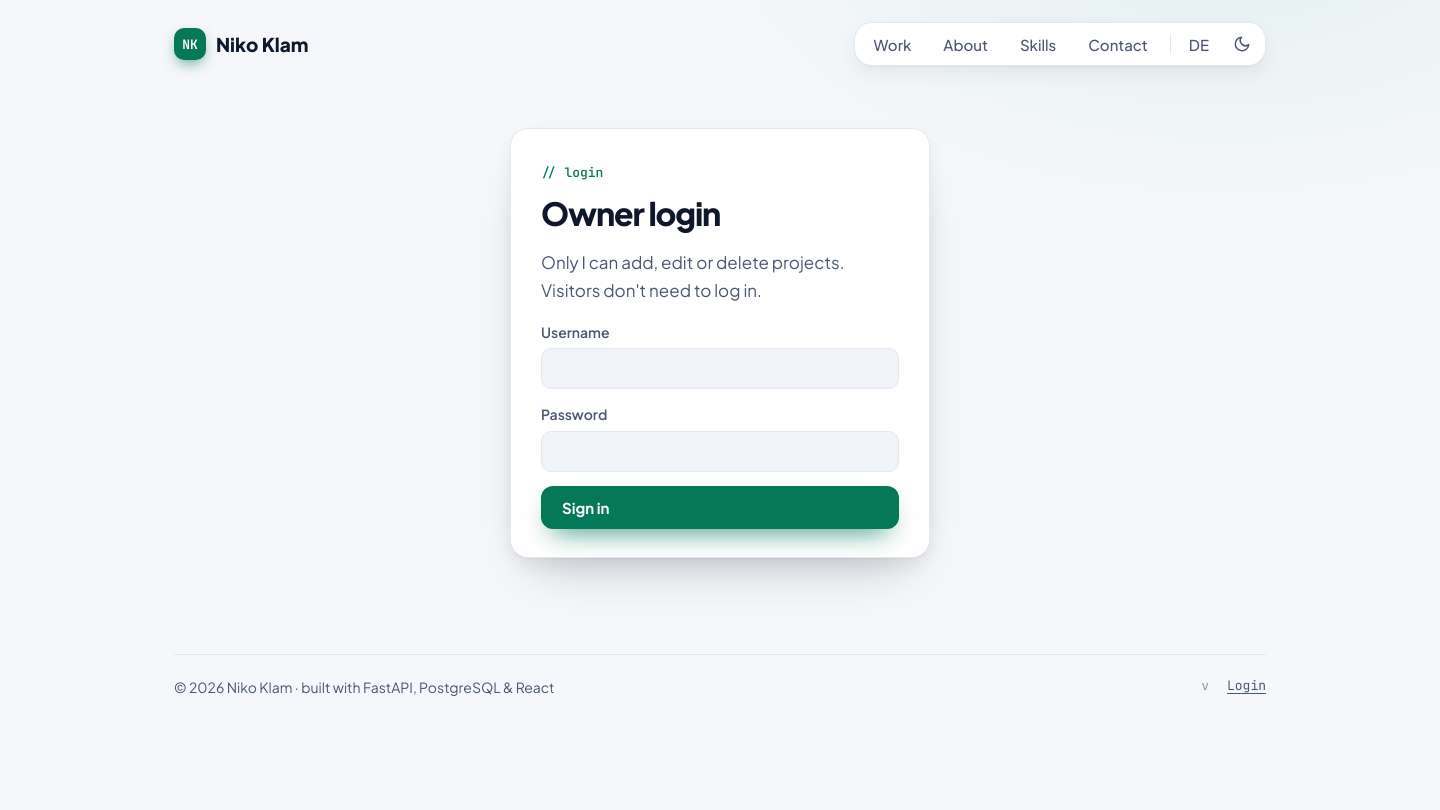
Test: login form › shows how long to wait when the login is rate limited
The image size is (1440, 810).
Type "admin" into the field labelled "Username".
click(720, 369); type("admin")  # box [541, 348, 899, 389]
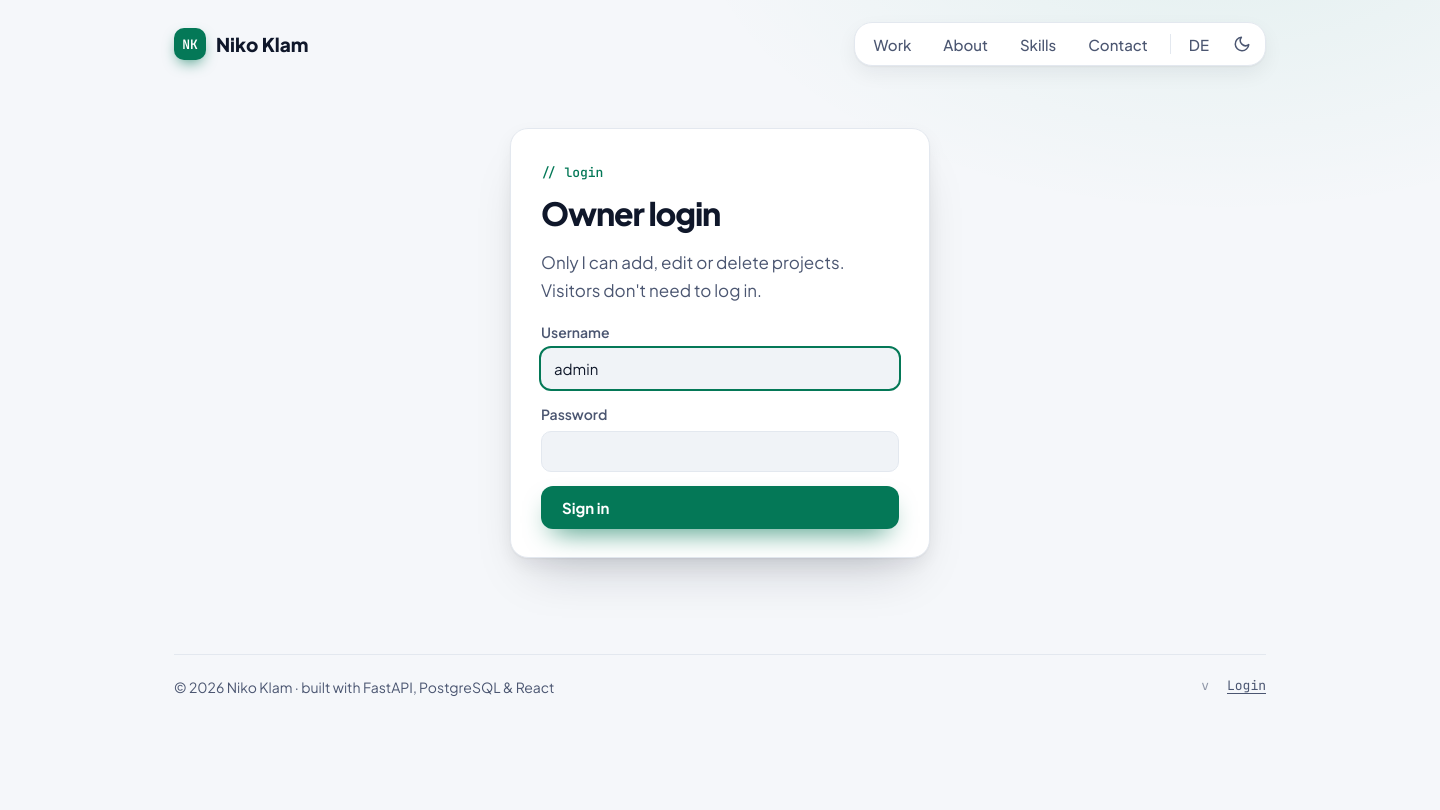
Type "wrong" into the password field labelled "Password".
click(720, 451); type("wrong")  # box [541, 430, 899, 472]
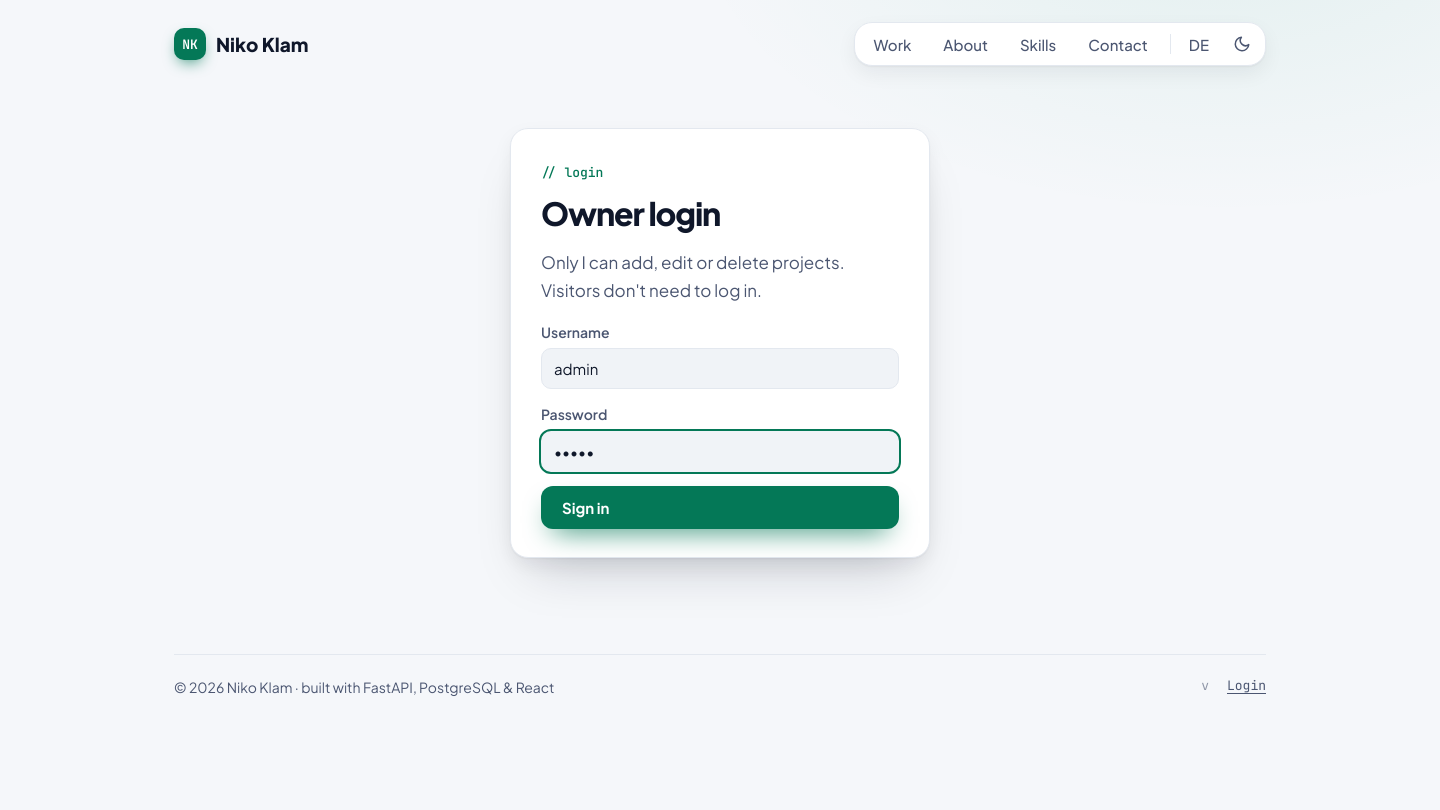
Click the button "Sign in".
click(586, 507)  # box [541, 486, 899, 528]
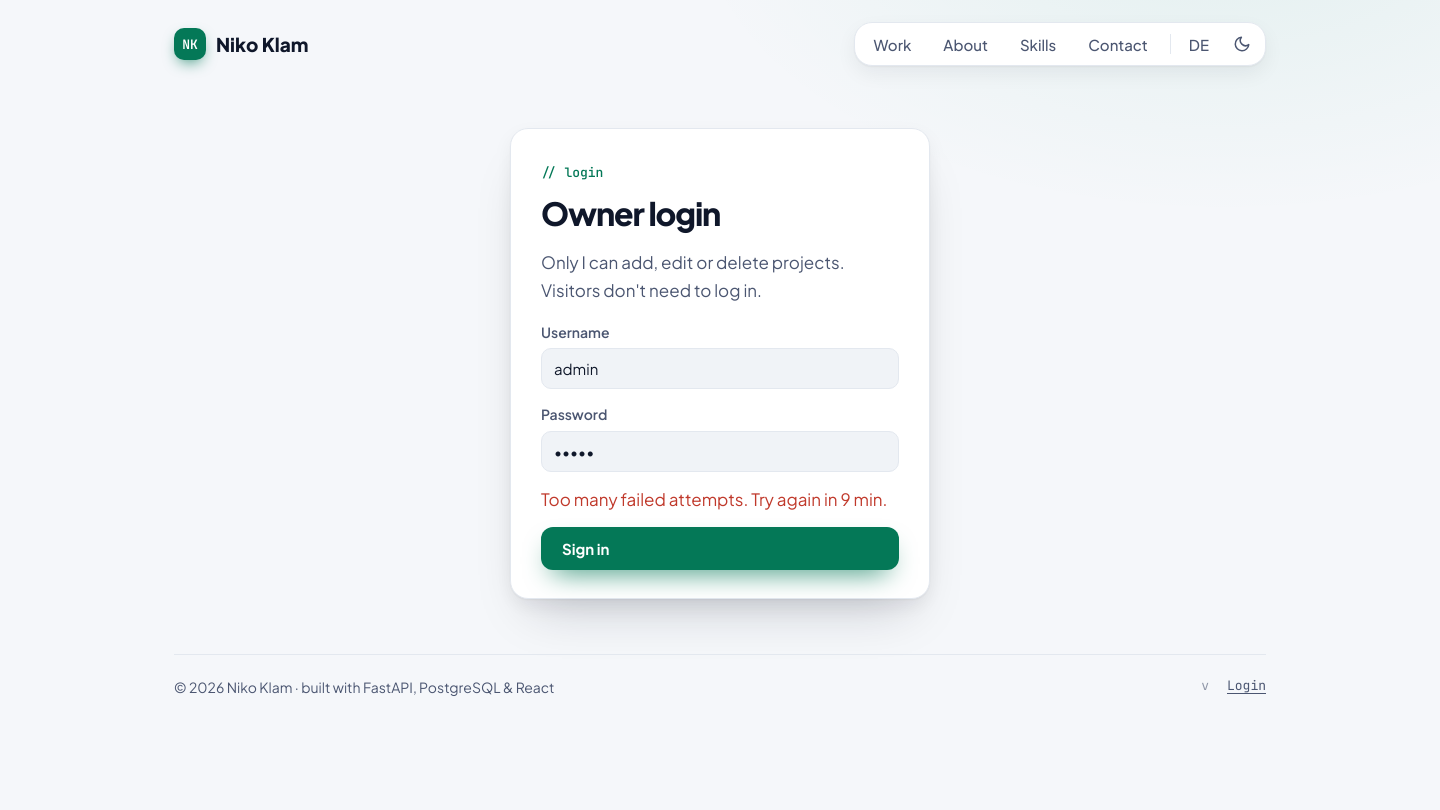
Check: the message reads "Too many failed attempts. Try again in 9 min.", box [541, 488, 887, 510]
